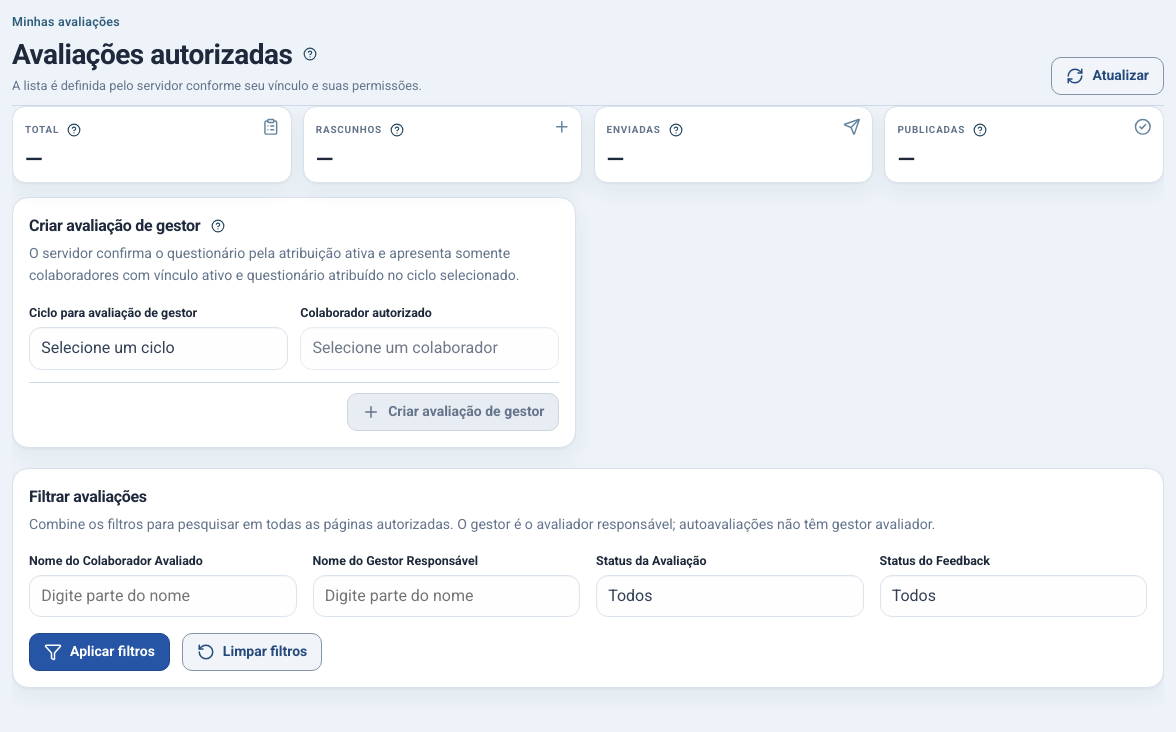
Test: Opções para iniciar avaliações › Gestor: Atualizar consulta novamente as pessoas e os ciclos
Select "Ciclo atual fictício" in the dropdown labelled "Ciclo para avaliação de gestor": (159, 348) [29,327,288,370]
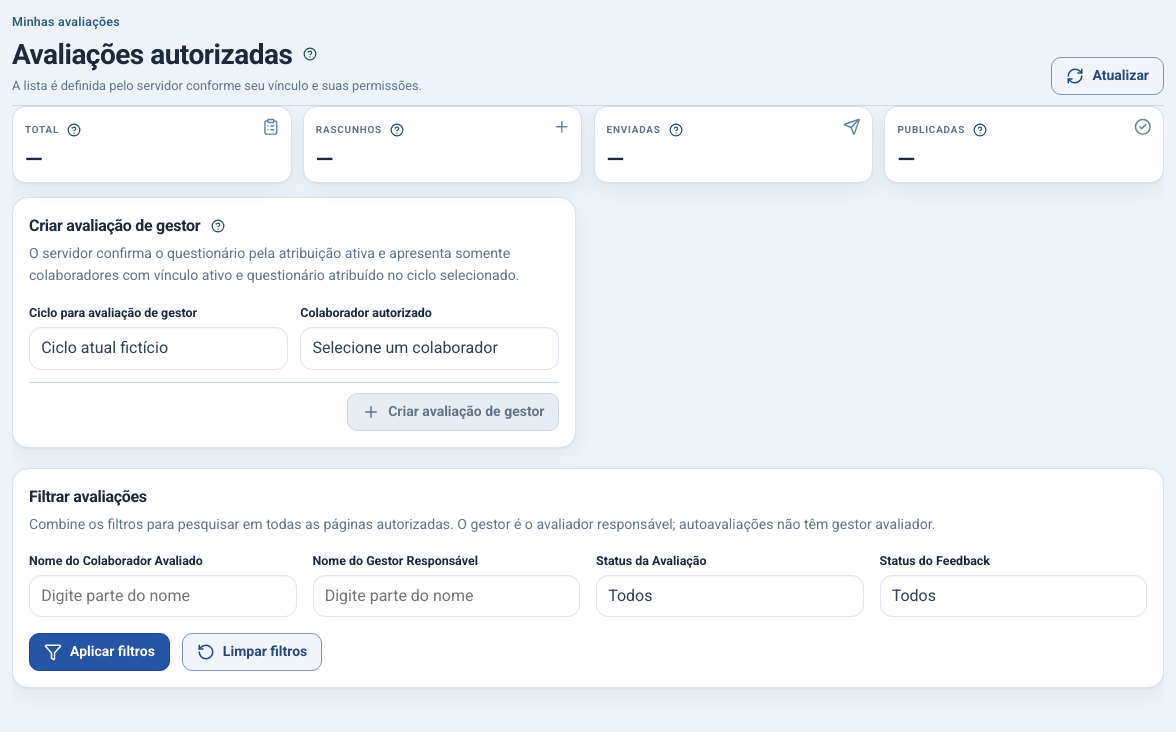
Select "Pessoa fictícia A" in the dropdown labelled "Colaborador autorizado": (430, 348) [300,327,560,370]
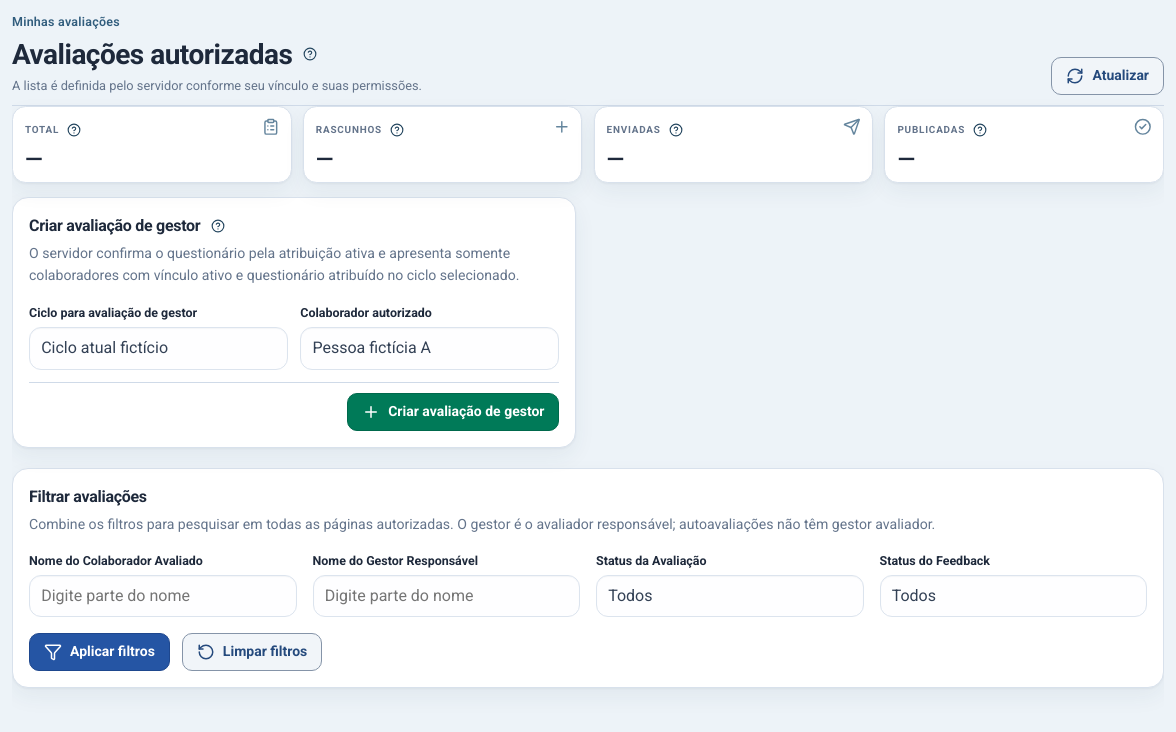
Click the button "Atualizar": (1108, 76) [1052,57,1164,95]
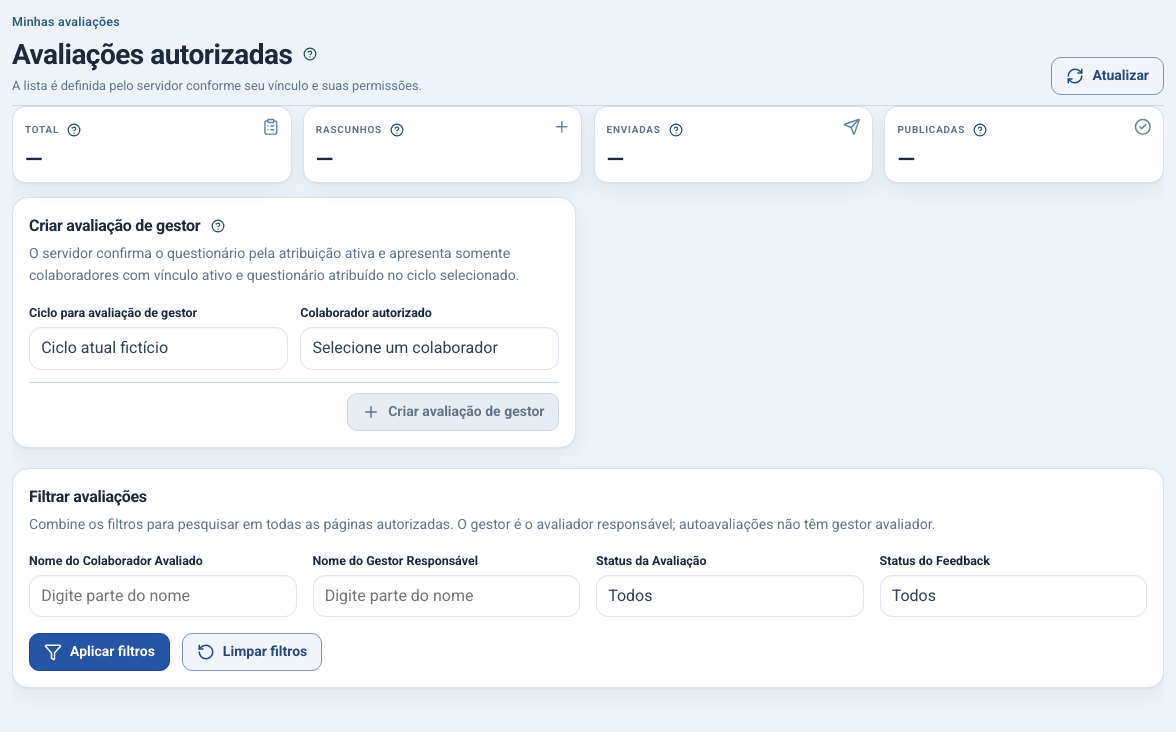
Expected: the option "Pessoa fictícia A" is not shown
Expected: the dropdown labelled "Colaborador autorizado" is enabled, [300,327,560,370]
Expected: the dropdown labelled "Colaborador autorizado" shows "Selecione um colaborador", [300,327,560,370]
